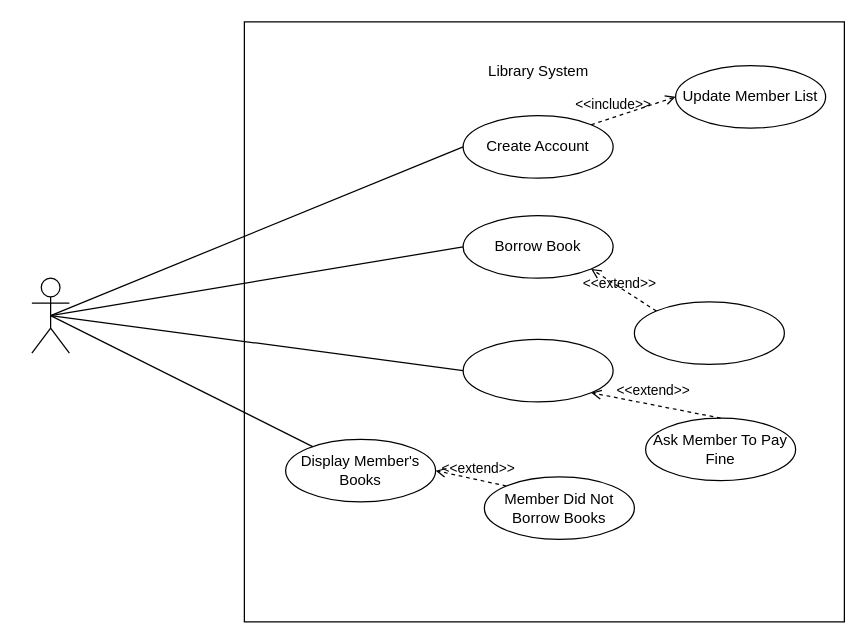
Some shapes in this 866 by 644 pixel diagram are drawn without their labels. The centre of each missing label's shape, as x and y in pixels:
"Book Not Available" belongs at point 708,332.
"Librarian" belongs at point 50,315.
"Return Book" belongs at point 537,370.
